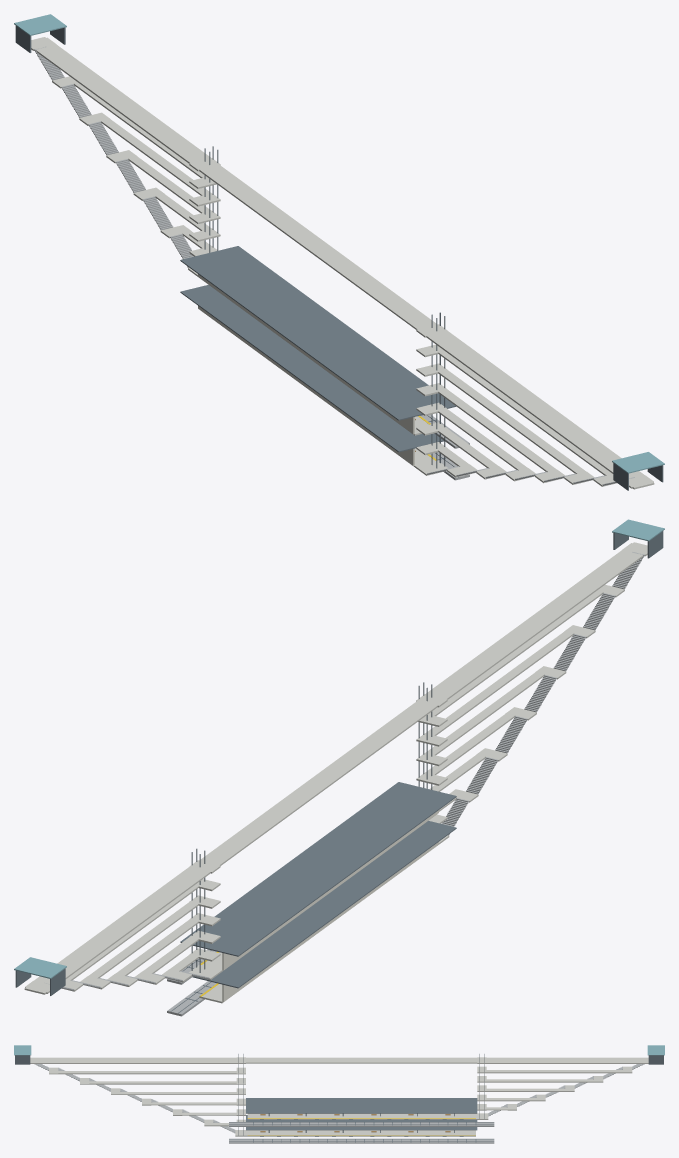
The model's file is granville.glb.
3 views of the same model, one above another, from view 1: azimuth 30°, elevation 25°; view 2: azimuth 150°, elevation 25°; view 3: azimuth 270°, elevation 25° (orthographic). The views are drawn at different scales.
Visible parts, largest first — view 1: batch-removable-roof-steel, floor-granville-surface-link-northsouth, batch-stair-tread-concrete, floor-granville-lower-lift-side, batch-wall-wall, floor-granville-lower-lift-corridor-5, floor-granville-lower-lift-corridor-6, floor-granville-upper-lift-side, batch-removable-roof-glass, floor-granville-lower-lift-corridor-4, batch-lift-shaft-steel, floor-granville-upper-lift-corridor-4 (+5 smaller); view 2: batch-removable-roof-steel, floor-granville-surface-link-northsouth, batch-stair-tread-concrete, floor-granville-lower-lift-side, batch-wall-wall, floor-granville-lower-lift-corridor-5, floor-granville-lower-lift-corridor-6, floor-granville-upper-lift-side, batch-removable-roof-glass, floor-granville-lower-lift-corridor-4, floor-granville-upper-lift-corridor-4, batch-lift-shaft-steel (+5 smaller); view 3: batch-removable-roof-steel, floor-granville-surface-link-northsouth, batch-trackbed-concrete, floor-granville-upper, floor-granville-lower, batch-rail-steel, batch-stair-tread-concrete, floor-granville-lower-lift-side, floor-granville-lower-lift-corridor-6, floor-granville-lower-lift-corridor-5, floor-granville-upper-lift-corridor-5, floor-granville-upper-lift-side (+10 smaller).
Part boxes in pixels (x1=…): batch-removable-roof-steel: x1=180, y1=246, x2=456, y2=452; floor-granville-surface-link-northsouth: x1=31, y1=38, x2=654, y2=489; batch-stair-tread-concrete: x1=34, y1=46, x2=634, y2=485; floor-granville-lower-lift-side: x1=430, y1=324, x2=653, y2=482; batch-wall-wall: x1=198, y1=274, x2=414, y2=465; floor-granville-lower-lift-corridor-5: x1=430, y1=363, x2=588, y2=474; floor-granville-lower-lift-corridor-6: x1=430, y1=344, x2=616, y2=483; floor-granville-upper-lift-side: x1=39, y1=38, x2=220, y2=166; batch-removable-roof-glass: x1=14, y1=14, x2=664, y2=473; floor-granville-lower-lift-corridor-4: x1=430, y1=383, x2=563, y2=479; batch-lift-shaft-steel: x1=204, y1=146, x2=445, y2=468; floor-granville-upper-lift-corridor-4: x1=94, y1=113, x2=219, y2=202; batch-removable-roof-steel: x1=180, y1=782, x2=456, y2=988; floor-granville-surface-link-northsouth: x1=25, y1=542, x2=647, y2=994; batch-stair-tread-concrete: x1=44, y1=552, x2=644, y2=990; floor-granville-lower-lift-side: x1=416, y1=544, x2=640, y2=702; batch-wall-wall: x1=222, y1=810, x2=438, y2=1001; floor-granville-lower-lift-corridor-5: x1=416, y1=626, x2=581, y2=742; floor-granville-lower-lift-corridor-6: x1=418, y1=585, x2=608, y2=721; floor-granville-upper-lift-side: x1=25, y1=861, x2=206, y2=987; batch-removable-roof-glass: x1=14, y1=519, x2=664, y2=978; floor-granville-lower-lift-corridor-4: x1=416, y1=667, x2=552, y2=762; floor-granville-upper-lift-corridor-4: x1=80, y1=896, x2=206, y2=985; batch-lift-shaft-steel: x1=191, y1=682, x2=432, y2=972; batch-removable-roof-steel: x1=246, y1=1098, x2=477, y2=1130; floor-granville-surface-link-northsouth: x1=30, y1=1057, x2=648, y2=1063; batch-trackbed-concrete: x1=229, y1=1122, x2=494, y2=1143; floor-granville-upper: x1=247, y1=1113, x2=475, y2=1119; floor-granville-lower: x1=247, y1=1130, x2=475, y2=1136; batch-rail-steel: x1=229, y1=1122, x2=493, y2=1142; batch-stair-tread-concrete: x1=34, y1=1064, x2=644, y2=1133; floor-granville-lower-lift-side: x1=30, y1=1060, x2=240, y2=1063; floor-granville-lower-lift-corridor-6: x1=49, y1=1071, x2=245, y2=1074; floor-granville-lower-lift-corridor-5: x1=80, y1=1081, x2=245, y2=1084; floor-granville-upper-lift-corridor-5: x1=477, y1=1070, x2=632, y2=1073; floor-granville-upper-lift-side: x1=486, y1=1060, x2=648, y2=1063.
Bounding box in the file's own units: 11.5 × 31.02 × 211.
